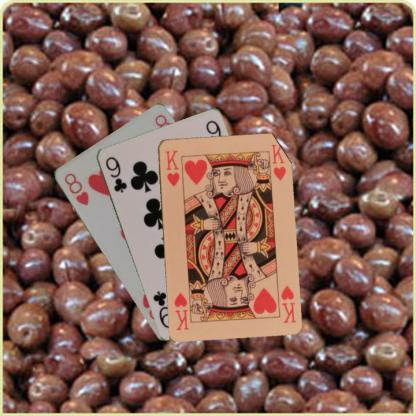8h: (61, 170, 90, 207)
9c: (102, 154, 128, 194)
Kh: (278, 283, 297, 324), (163, 148, 181, 188)
